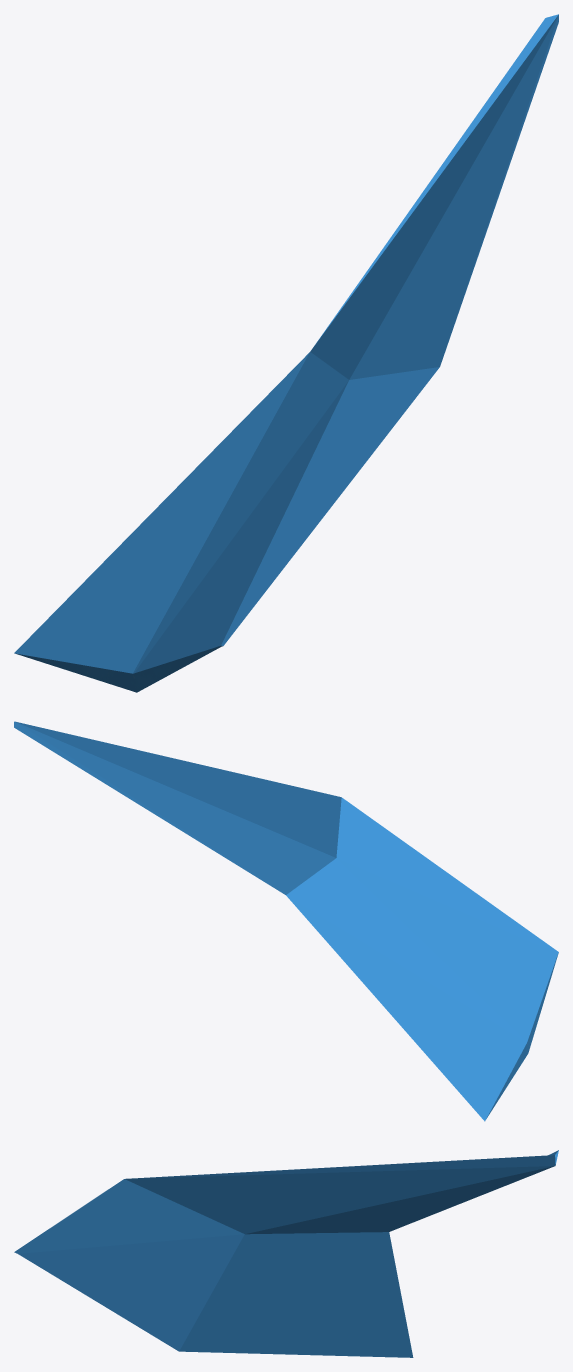
Rendered from ala_izquierda.obj.
3 renders of one model, top to bottom at view 1: azimuth 30°, elevation 25°; view 2: azimuth 150°, elevation 25°; view 3: azimuth 270°, elevation 25°, orthographic. The views are drawn at different scales.
Parts seen in each view (by area): view 1: lowpoly_bird.002; view 2: lowpoly_bird.002; view 3: lowpoly_bird.002.
Boxes of the visible parts, x1=… form: lowpoly_bird.002: x1=14, y1=14, x2=558, y2=692; lowpoly_bird.002: x1=14, y1=721, x2=558, y2=1121; lowpoly_bird.002: x1=14, y1=1150, x2=558, y2=1357.
Size of the model in its own units: 7.01 by 5.04 by 4.32.
Materials: 1 (1 with a texture image).
